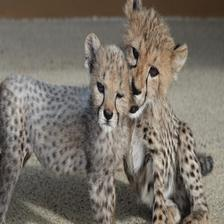Cheetah: (0, 33, 130, 224), (124, 0, 212, 224)
